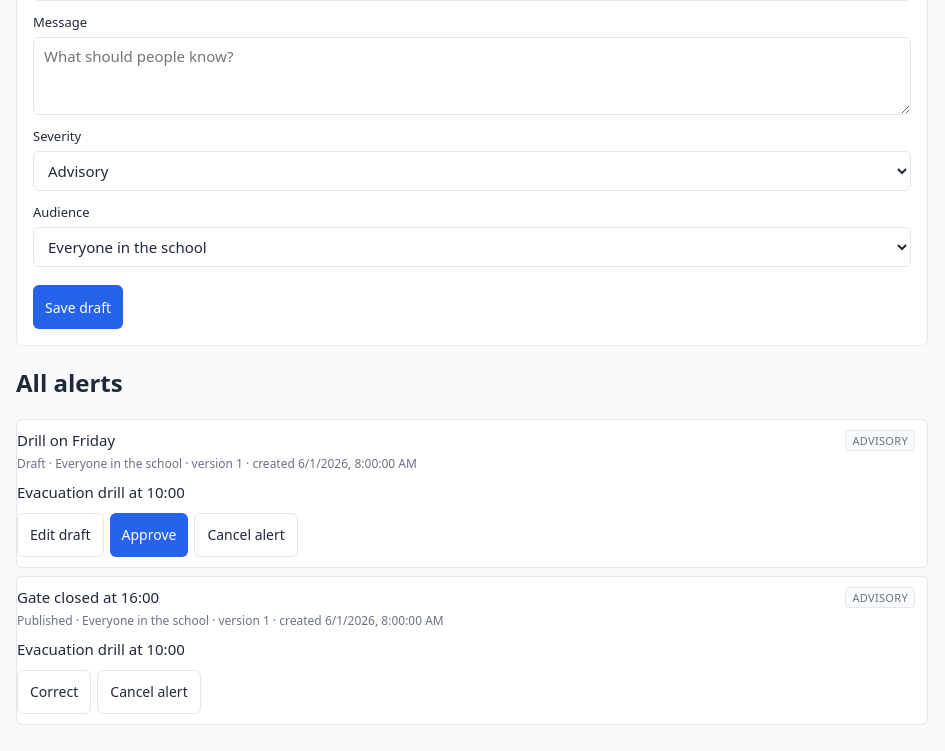
Scenario: AdminAlerts › shows the error returned by the server
(page scrolled)
expect the text "Drill on Friday" is shown: met, box [17,430,115,450]
Click the button "Approve" at (149, 535), box [110,513,188,557]
(page scrolled)
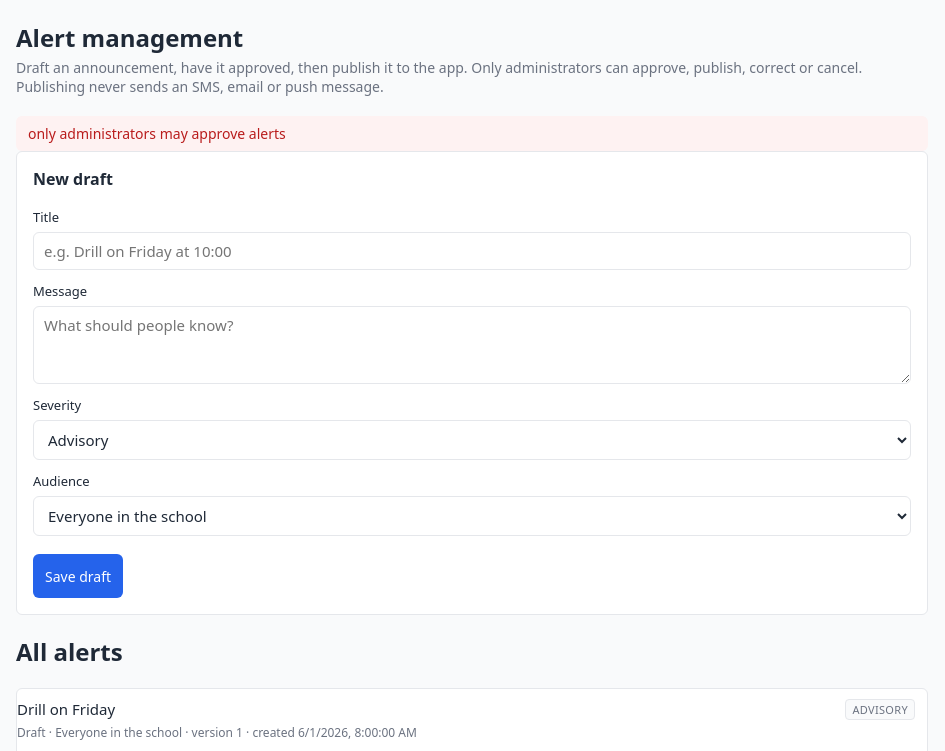
expect the message reads "only administrators may approve alerts": met, box [28,124,286,143]
